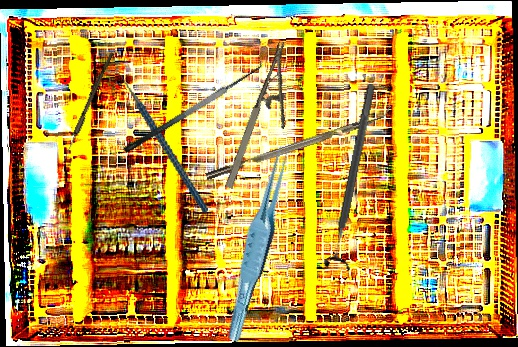Chopper: (105, 52, 209, 228), (202, 102, 395, 181)
Fixation Ring: (321, 81, 387, 272)
Needle Holder: (221, 40, 314, 199)
Spatula Surgical: (115, 52, 271, 156)
Surgical Spoon: (60, 50, 114, 166)
Tissue Forceps: (212, 142, 306, 343)
